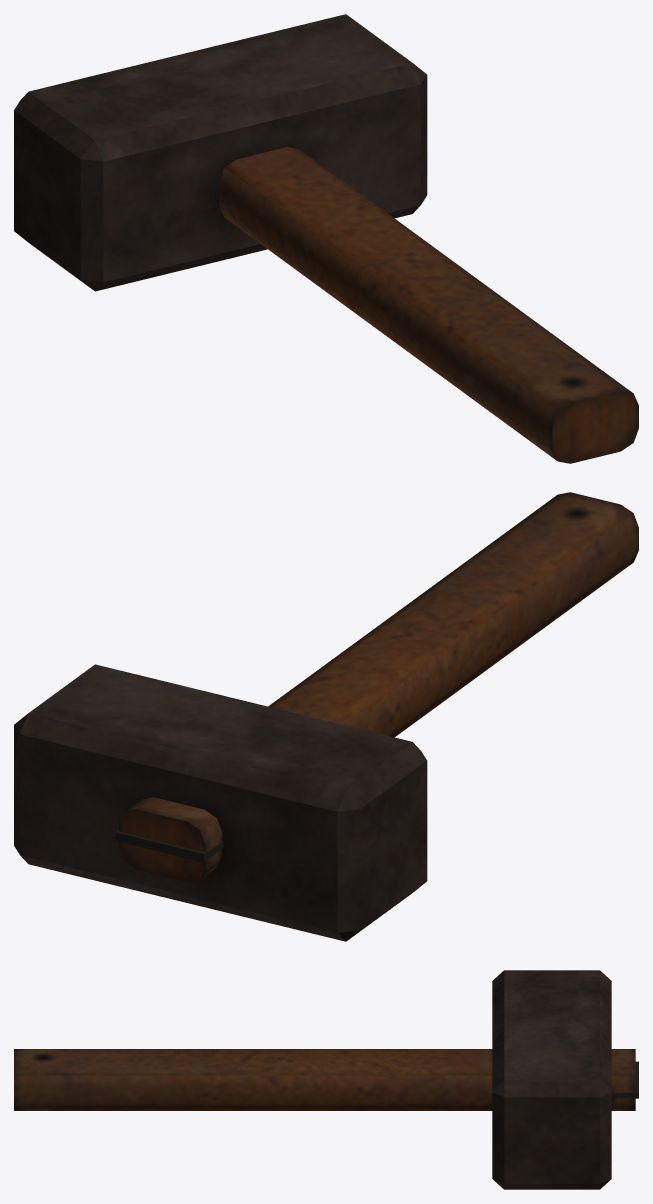
File: hammer_mx_1.obj
3 renders of one model, top to bottom at view 1: azimuth 30°, elevation 25°; view 2: azimuth 150°, elevation 25°; view 3: azimuth 270°, elevation 25°, orthographic. The views are drawn at different scales.
Visible parts, largest first — view 1: hammer_mx_1; view 2: hammer_mx_1; view 3: hammer_mx_1.
Boxes of the visible parts, <box> form: hammer_mx_1: <box>14,14,638,463</box>; hammer_mx_1: <box>14,492,638,941</box>; hammer_mx_1: <box>14,970,638,1189</box>.
Bounding box in the file's own units: 0.24 × 0.1 × 0.5227.
